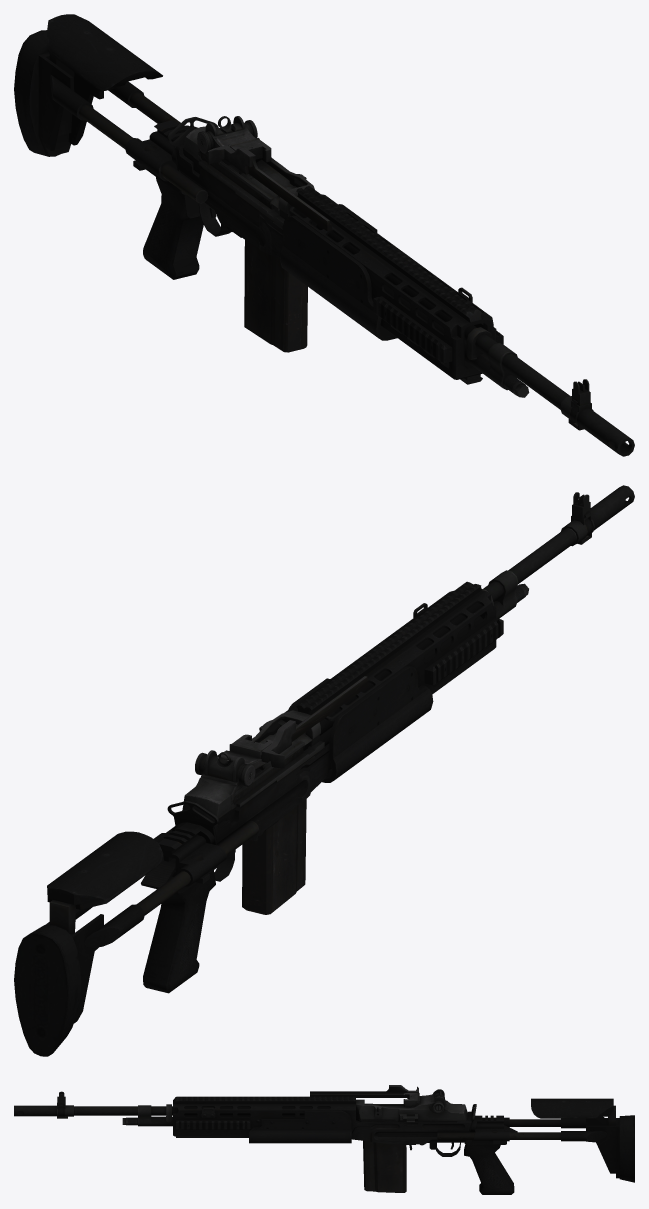
Rendered from EBR.FBX.
The picture shows the model from 3 angles, top to bottom: view 1: azimuth 30°, elevation 25°; view 2: azimuth 150°, elevation 25°; view 3: azimuth 270°, elevation 25°; orthographic projection. The views are drawn at different scales.
Parts seen in each view (by area): view 1: Mesh_0003, mag; view 2: Mesh_0003, mag; view 3: Mesh_0003, mag.
Part boxes in pixels (x1,y1,x2,y2): Mesh_0003: [14, 14, 634, 456]; mag: [244, 240, 307, 352]; Mesh_0003: [14, 485, 634, 1056]; mag: [242, 799, 306, 914]; Mesh_0003: [14, 1085, 634, 1194]; mag: [363, 1140, 406, 1192].
Bounding box in the file's own units: 9.48 × 23.53 × 131.
